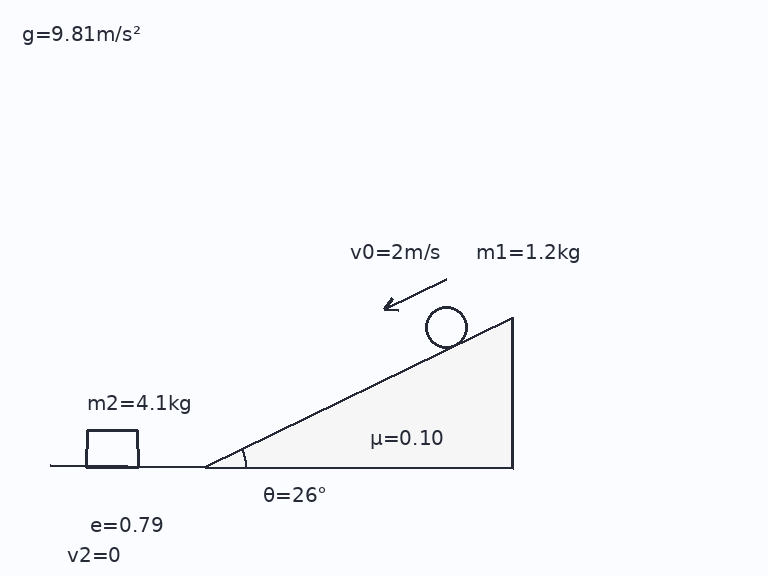ball: (423, 304, 469, 350)
block: (84, 428, 140, 469)
ramp: (204, 316, 514, 469)
